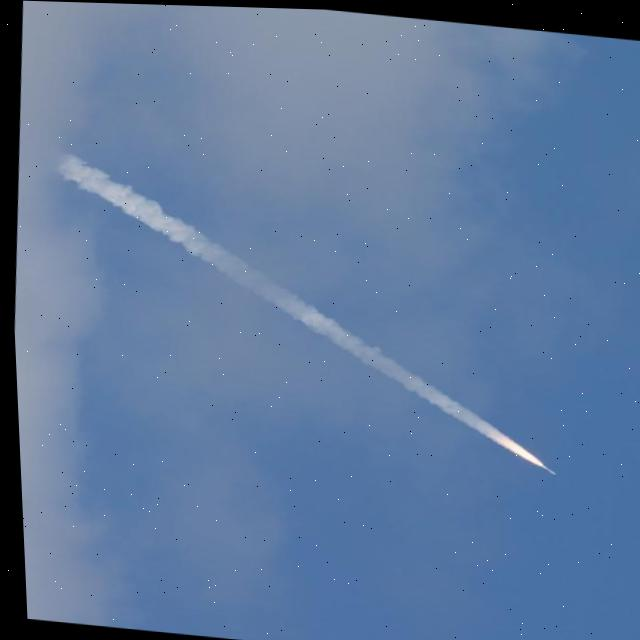missile: (524, 451, 560, 478)
